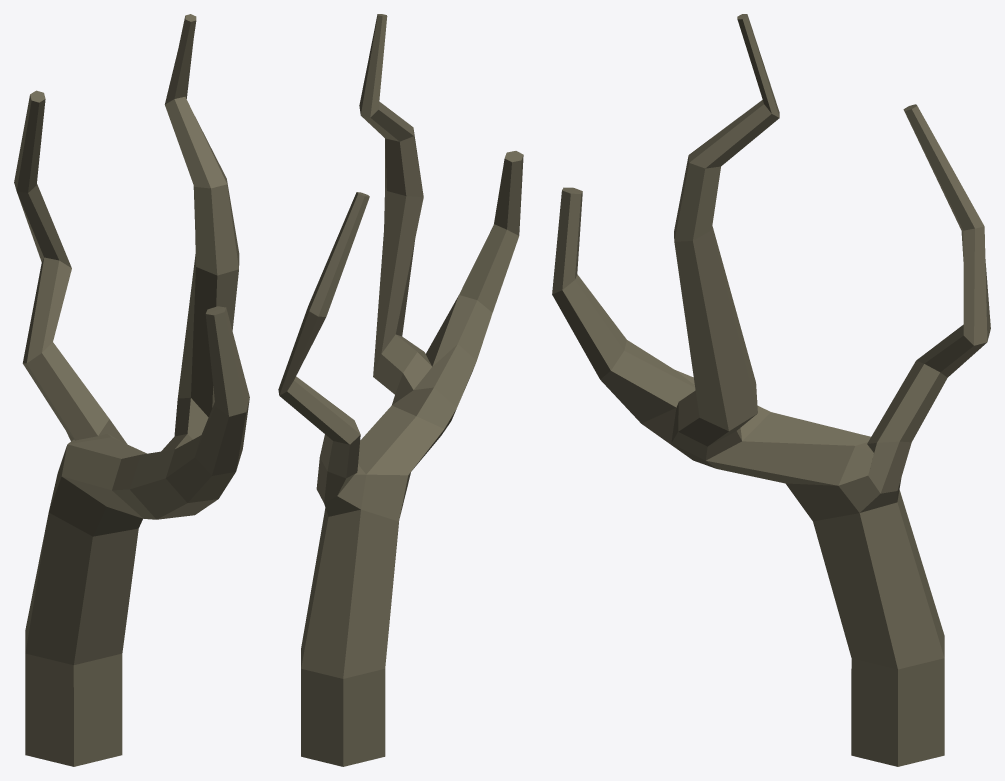
The model's file is branches 1.fbx.
3 renders of one model, left to right at view 1: azimuth 30°, elevation 25°; view 2: azimuth 150°, elevation 25°; view 3: azimuth 270°, elevation 25°, orthographic. The views are drawn at different scales.
Visible parts, largest first — view 1: pCylinder1; view 2: pCylinder1; view 3: pCylinder1.
Boxes of the visible parts, x1=… form: pCylinder1: x1=14, y1=14, x2=249, y2=766; pCylinder1: x1=278, y1=14, x2=523, y2=766; pCylinder1: x1=552, y1=14, x2=990, y2=766.
Size of the model in its own units: 2.21 by 15.3 by 8.16.
